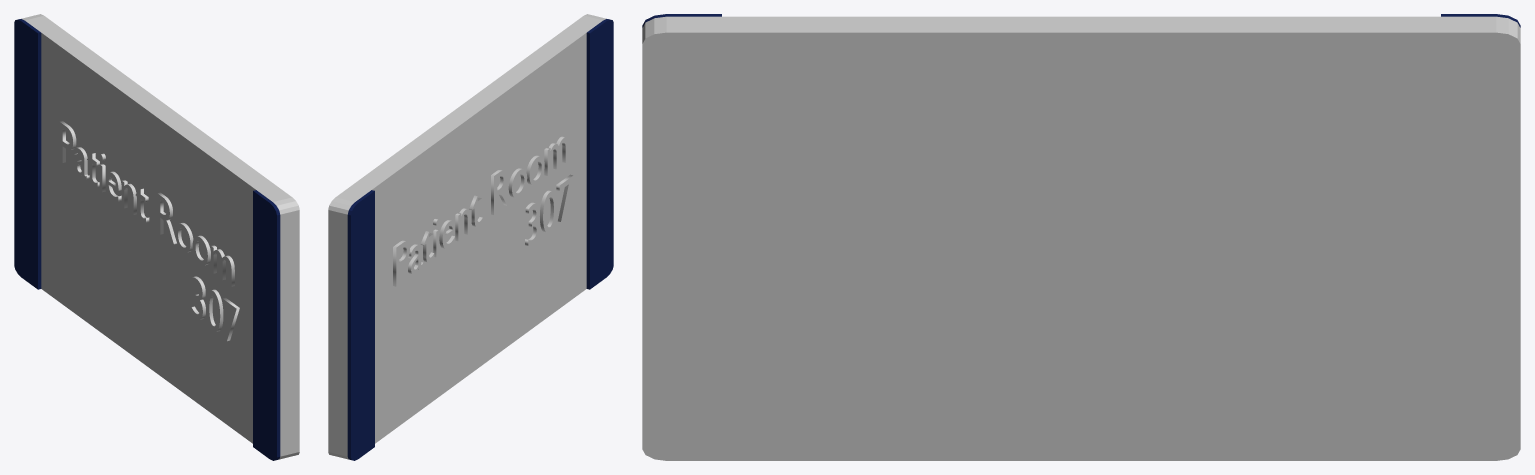
Rendered from doorNumber.fbx.
The picture shows the model from 3 angles, left to right: view 1: azimuth 30°, elevation 25°; view 2: azimuth 150°, elevation 25°; view 3: azimuth 270°, elevation 25°; orthographic projection. The views are drawn at different scales.
Visible parts, largest first — view 1: Cube, Text.002; view 2: Cube, Text.002; view 3: Cube.
Boxes of the visible parts, x1=… form: Cube: x1=14, y1=14, x2=299, y2=460; Text.002: x1=59, y1=121, x2=239, y2=341; Cube: x1=328, y1=14, x2=613, y2=460; Text.002: x1=393, y1=136, x2=573, y2=286; Cube: x1=642, y1=14, x2=1520, y2=460.
Size of the model in its own units: 28.18 by 302 by 562.
